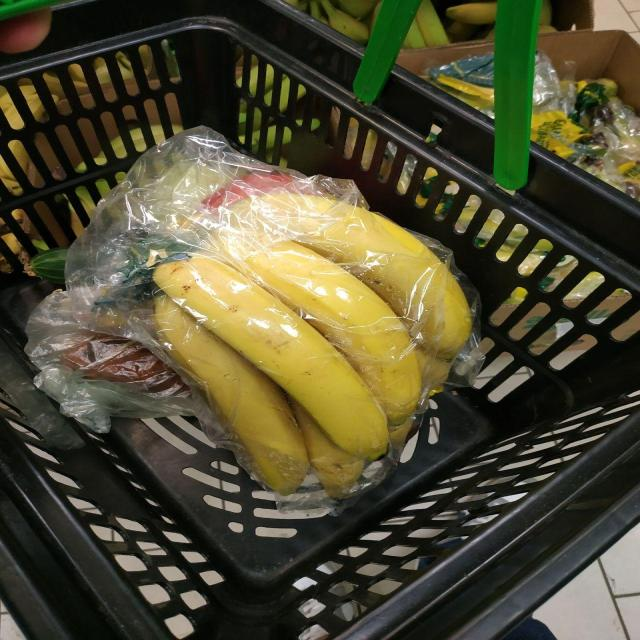Banana: (153, 256, 388, 460), (258, 192, 473, 388), (245, 241, 422, 424), (153, 296, 308, 494), (288, 396, 365, 498)
Cucumber: (30, 248, 68, 283)
